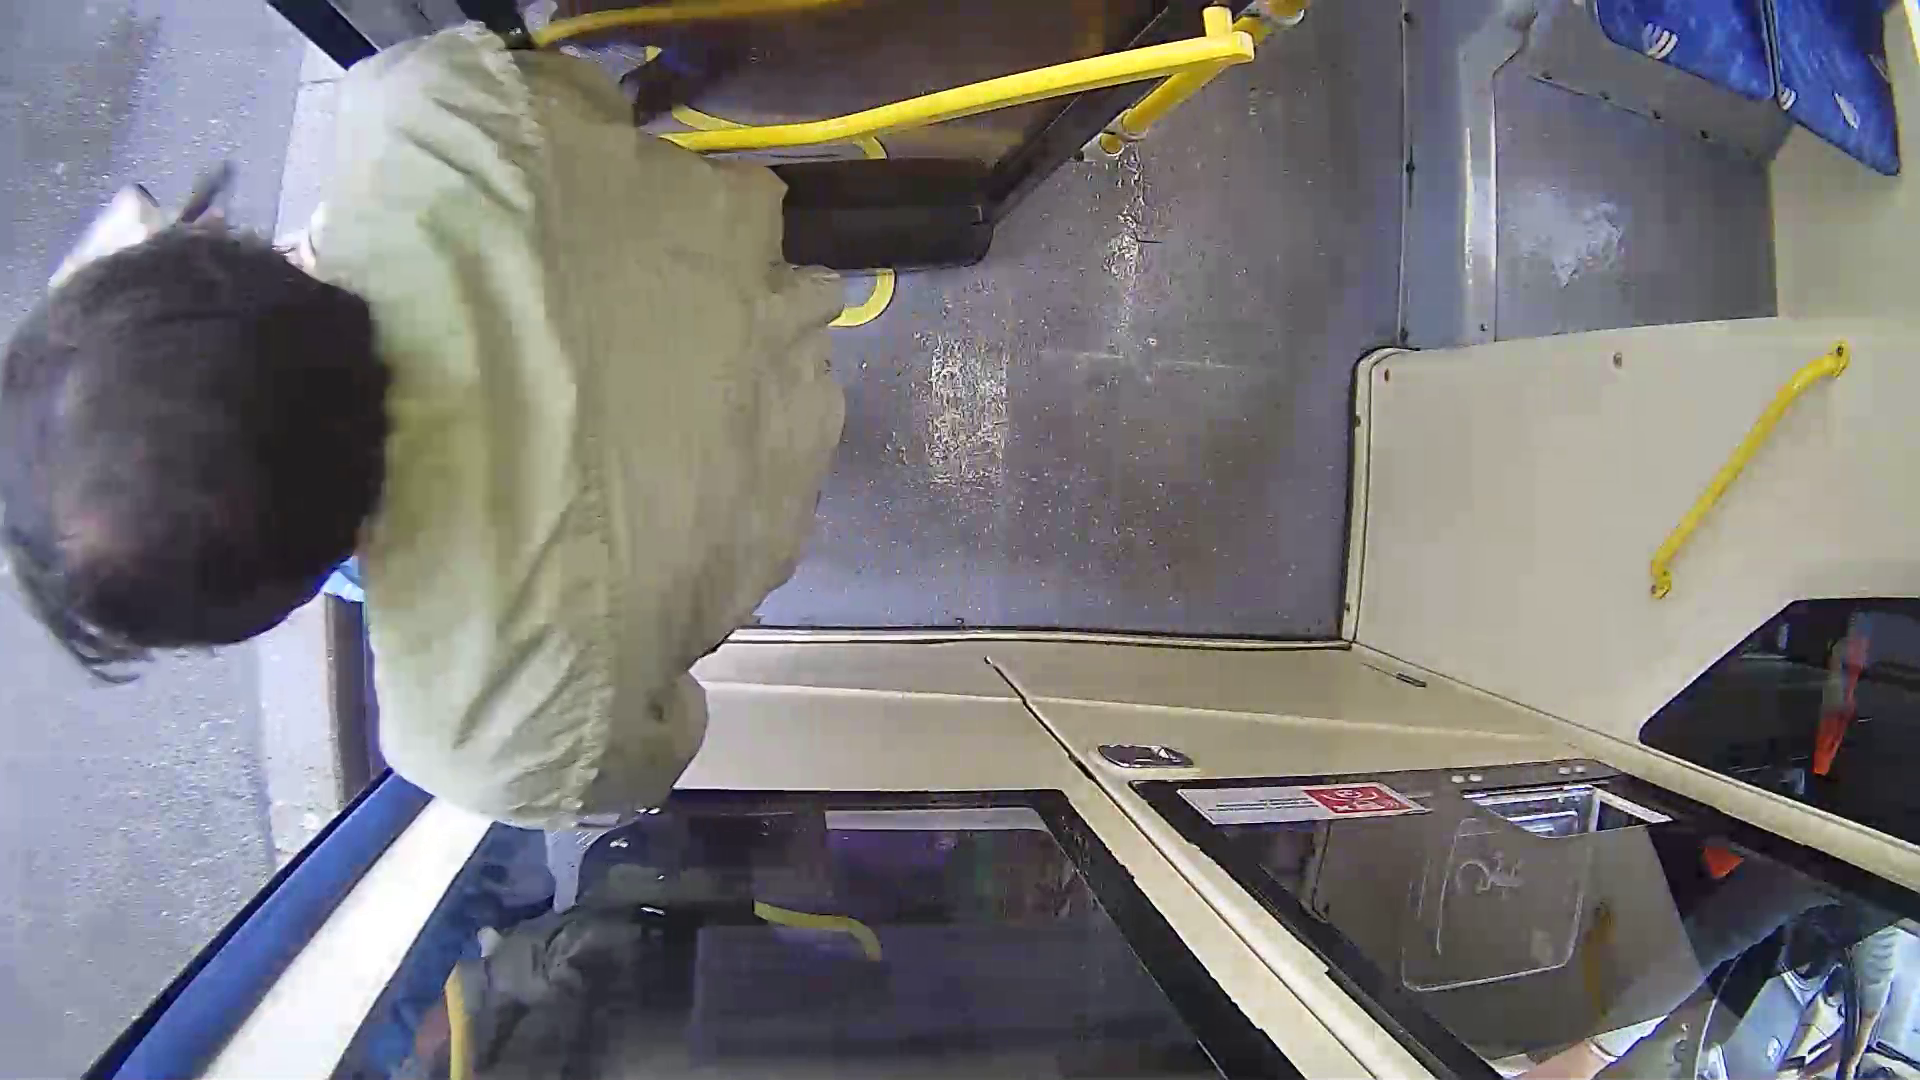person: (14, 44, 901, 820)
